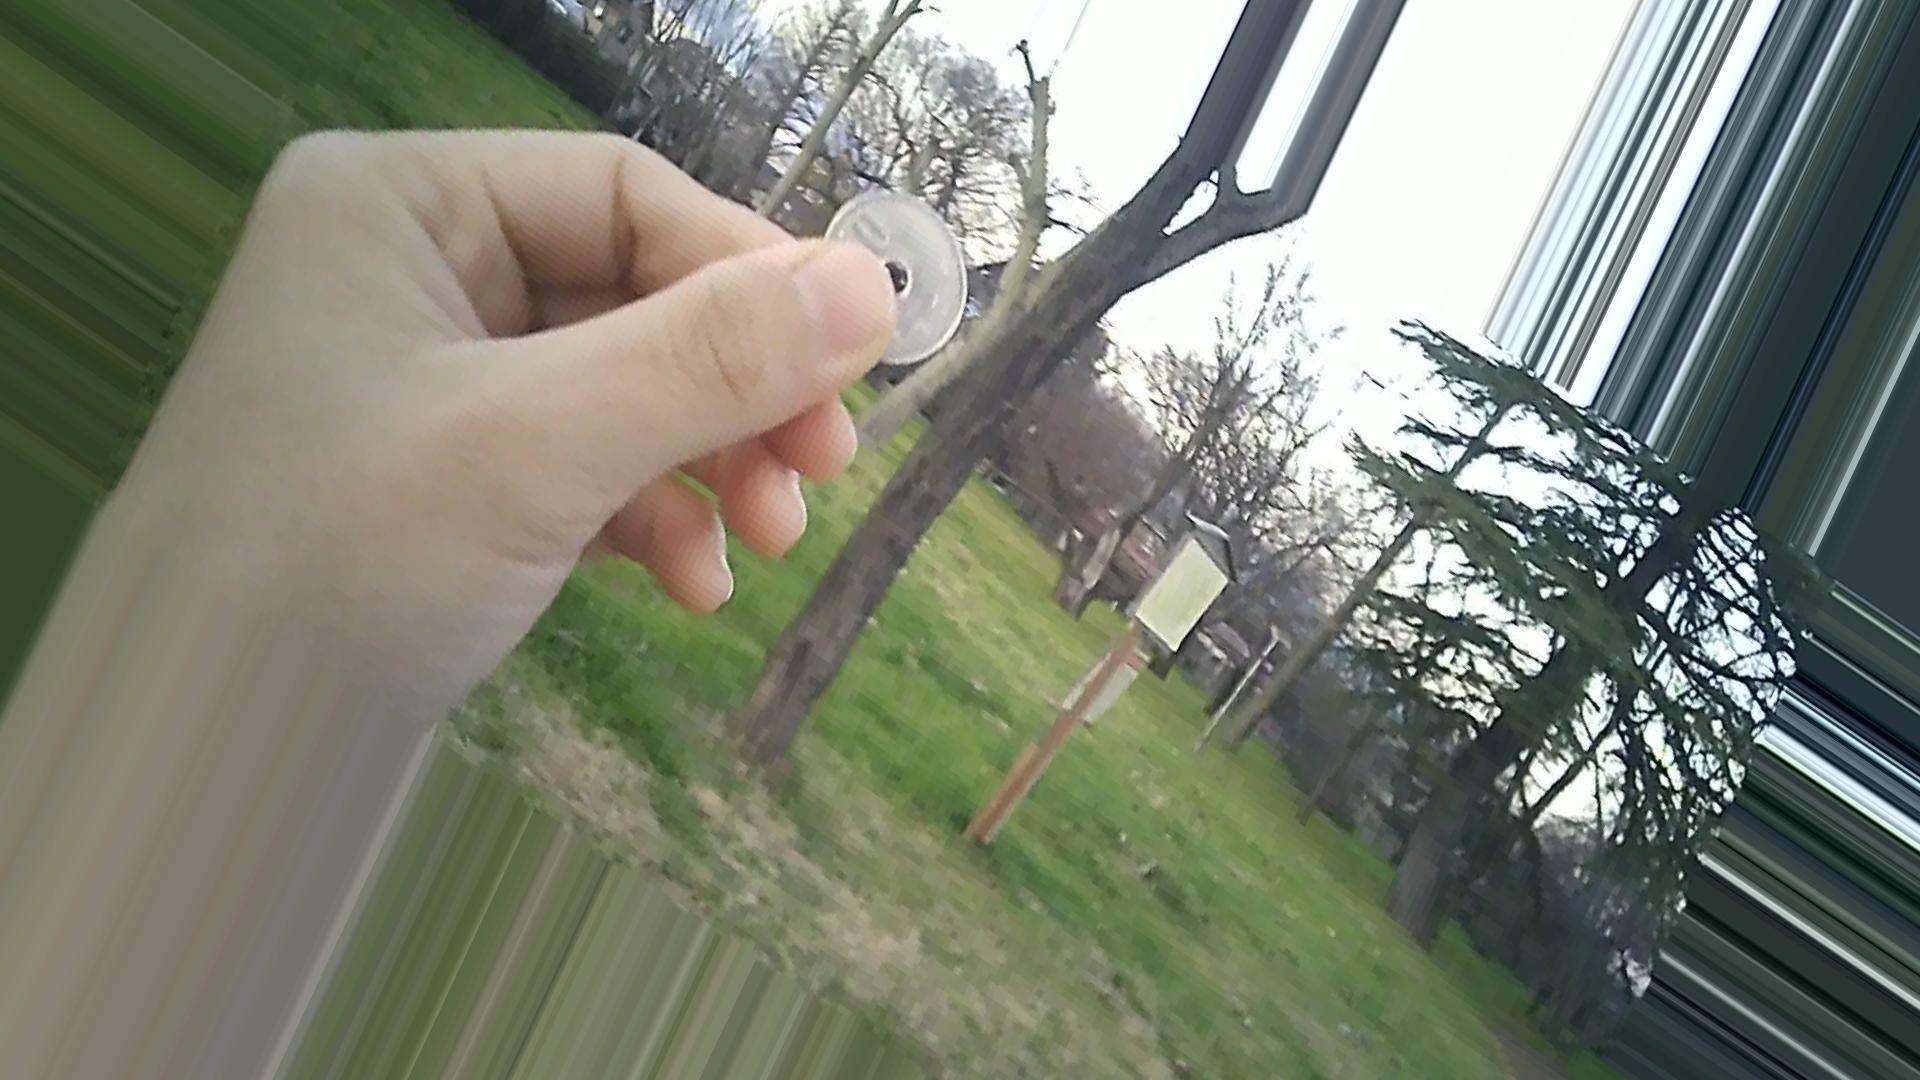50 Yen: (823, 189, 960, 371)
